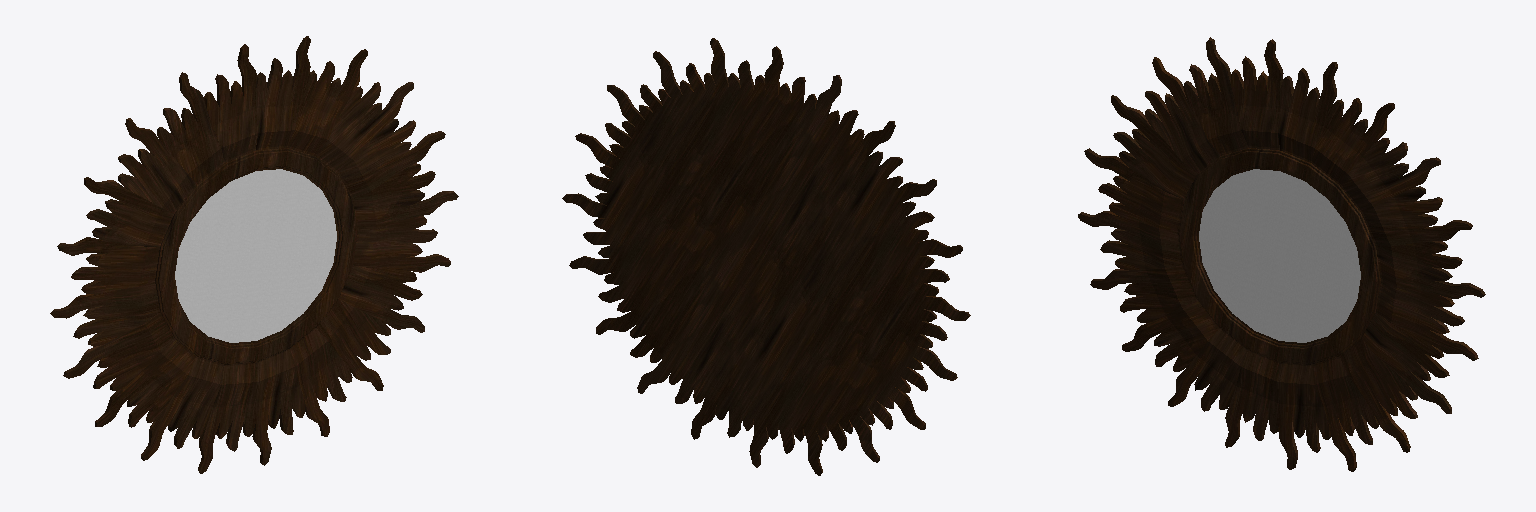
The picture shows the model from 3 angles: view 1: azimuth 30°, elevation 25°; view 2: azimuth 150°, elevation 25°; view 3: azimuth 330°, elevation 25°; orthographic projection.
Bounding box in the file's own units: 1.09 × 1.09 × 0.02.
2 materials, 2 textured.